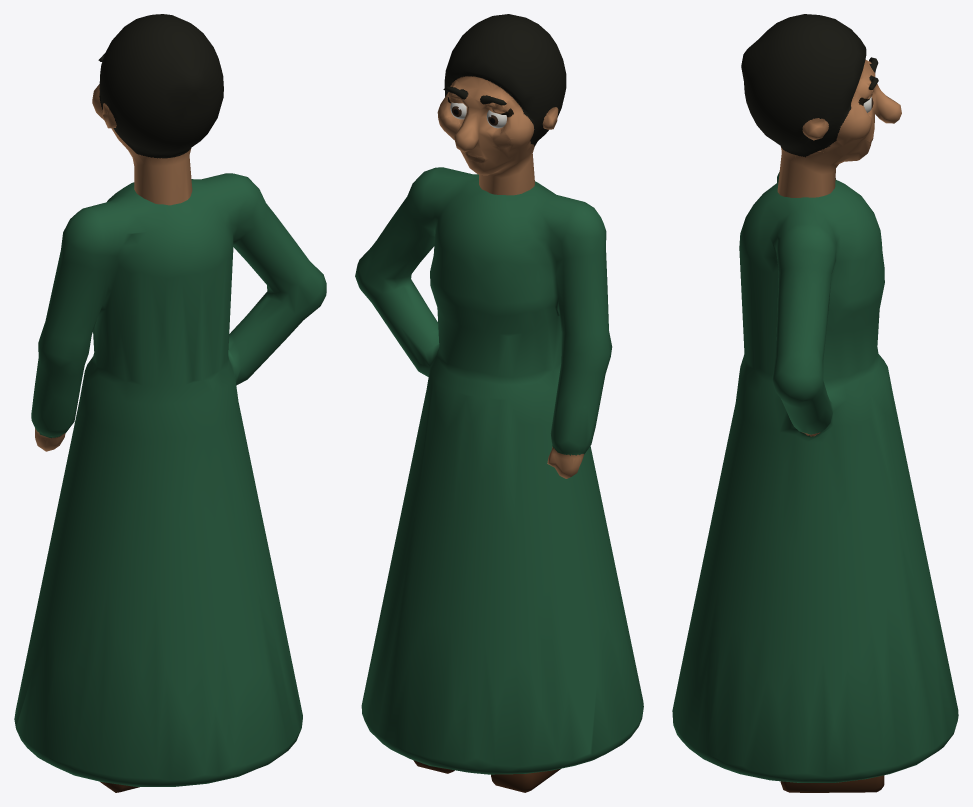
The model's file is woman-b.glb.
3 renders of one model, left to right at view 1: azimuth 30°, elevation 25°; view 2: azimuth 150°, elevation 25°; view 3: azimuth 270°, elevation 25°, orthographic. The views are drawn at different scales.
Visible parts, largest first — view 1: body_lod0, head_lod0; view 2: body_lod0, head_lod0; view 3: body_lod0, head_lod0.
Boxes of the visible parts, x1,y1,x2,y2 form: body_lod0: (14,173,326,792); head_lod0: (92,14,223,205); body_lod0: (355,167,643,792); head_lod0: (437,14,566,195); body_lod0: (672,172,958,792); head_lod0: (741,14,901,197).
Size of what is drawn, in the model's own units: 0.7429 by 1.91 by 0.6591.
